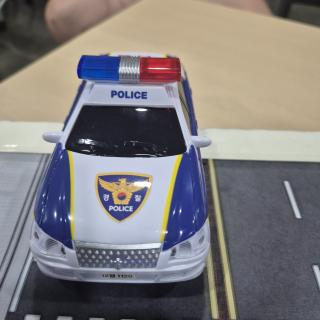Police_car: (30, 55, 211, 283)
